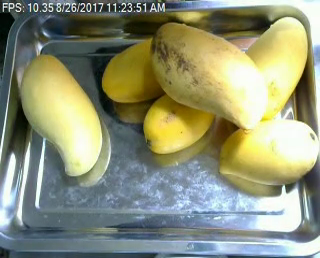Mango: (151, 23, 268, 131), (19, 56, 102, 175), (240, 17, 307, 121), (219, 120, 319, 185), (144, 92, 218, 153), (100, 37, 165, 100)
